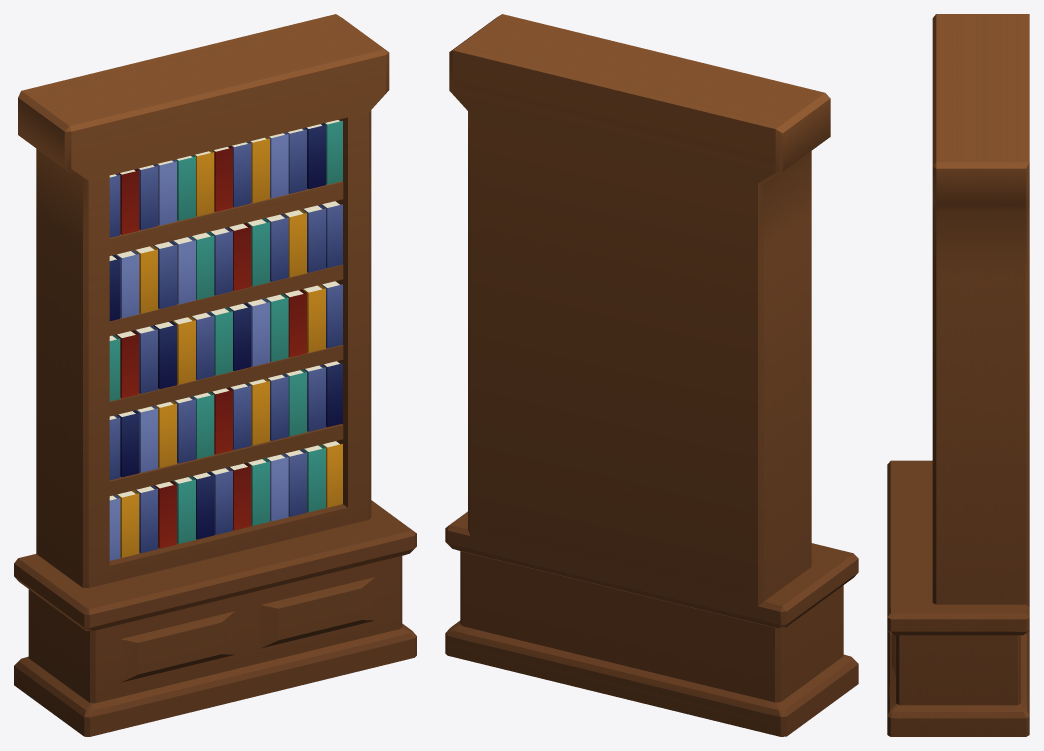
File: Pitkä_Kirjahylly_Ver1.fbx
The picture shows the model from 3 angles, left to right: view 1: azimuth 30°, elevation 25°; view 2: azimuth 150°, elevation 25°; view 3: azimuth 270°, elevation 25°; orthographic projection. The views are drawn at different scales.
Visible parts, largest first — view 1: Tumma_Kirjahylly_1; view 2: Tumma_Kirjahylly_1; view 3: Tumma_Kirjahylly_1.
Boxes of the visible parts, bbox=[...] form: Tumma_Kirjahylly_1: bbox=[14, 14, 416, 736]; Tumma_Kirjahylly_1: bbox=[445, 14, 858, 736]; Tumma_Kirjahylly_1: bbox=[887, 14, 1029, 736].
Bounding box in the file's own units: 1.15 × 1.96 × 0.4426.
